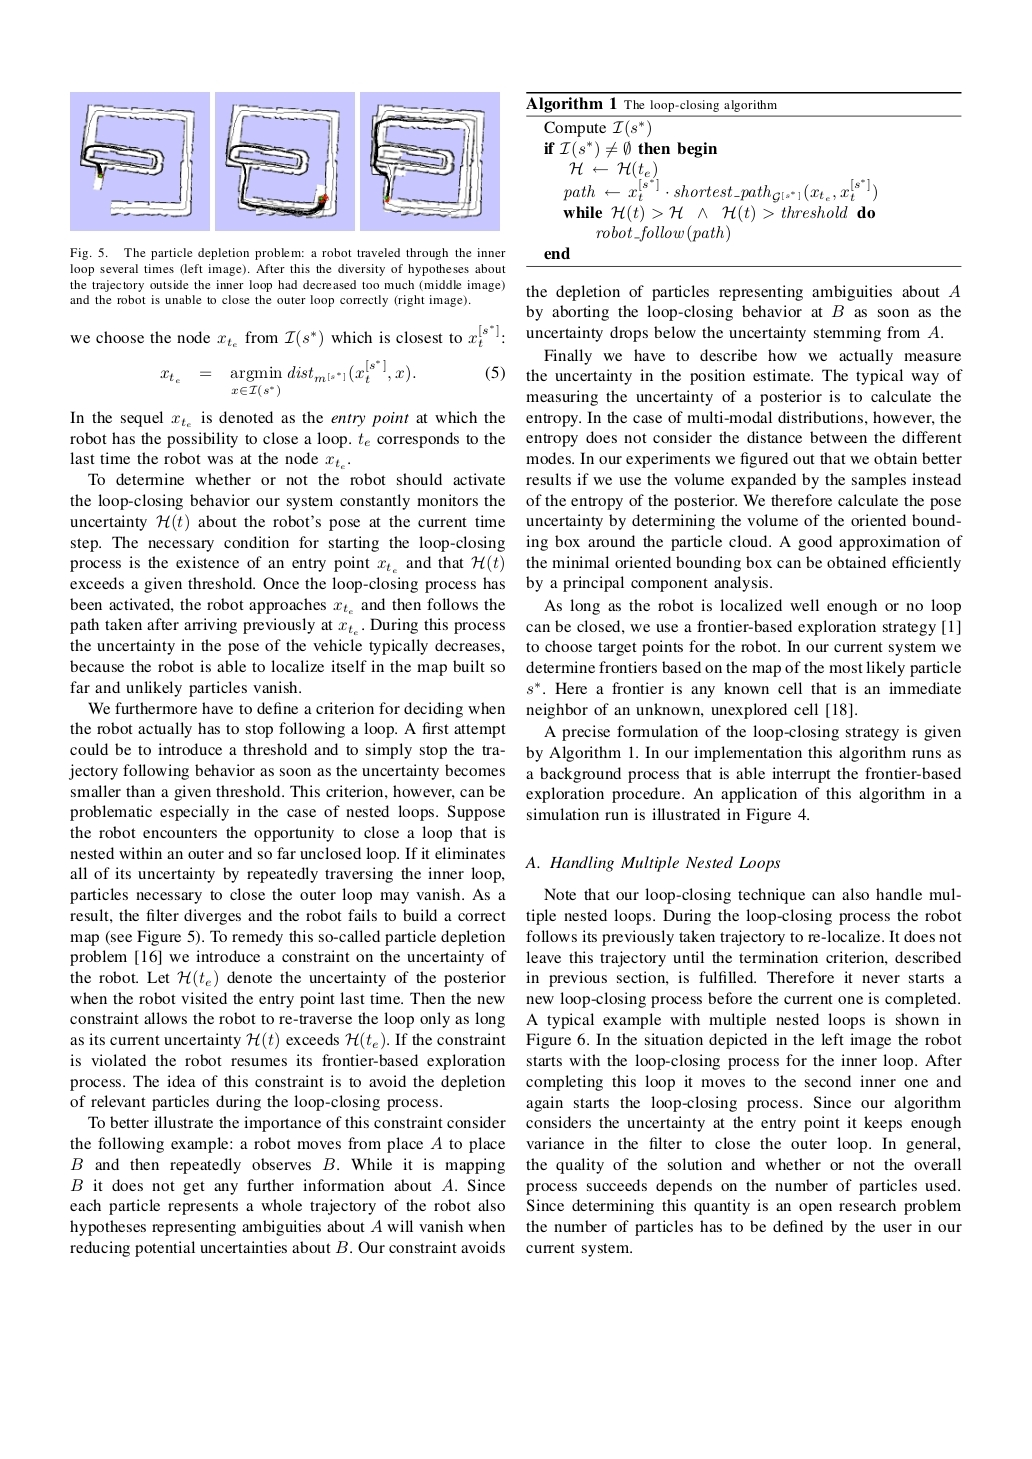figure: (70, 92, 209, 230), (214, 92, 354, 229), (360, 92, 498, 227)
formula: (160, 359, 504, 397)
